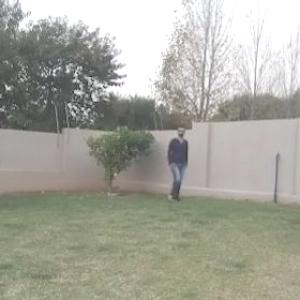follow: (169, 129, 188, 199)
